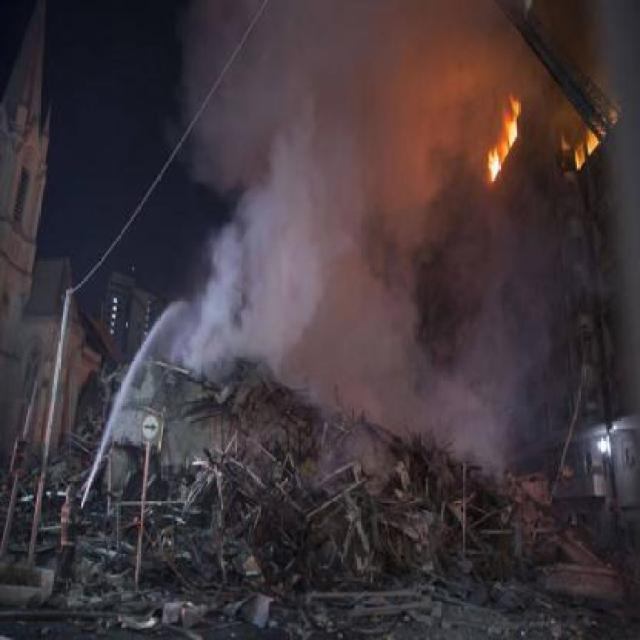Fire: (478, 101, 522, 181), (566, 135, 602, 168)
